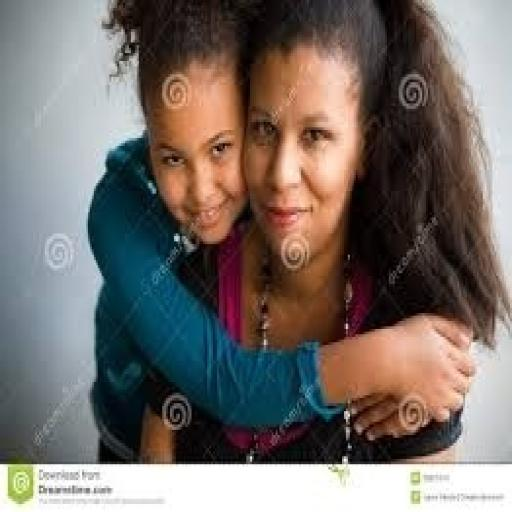hugging: (84, 0, 508, 462)
